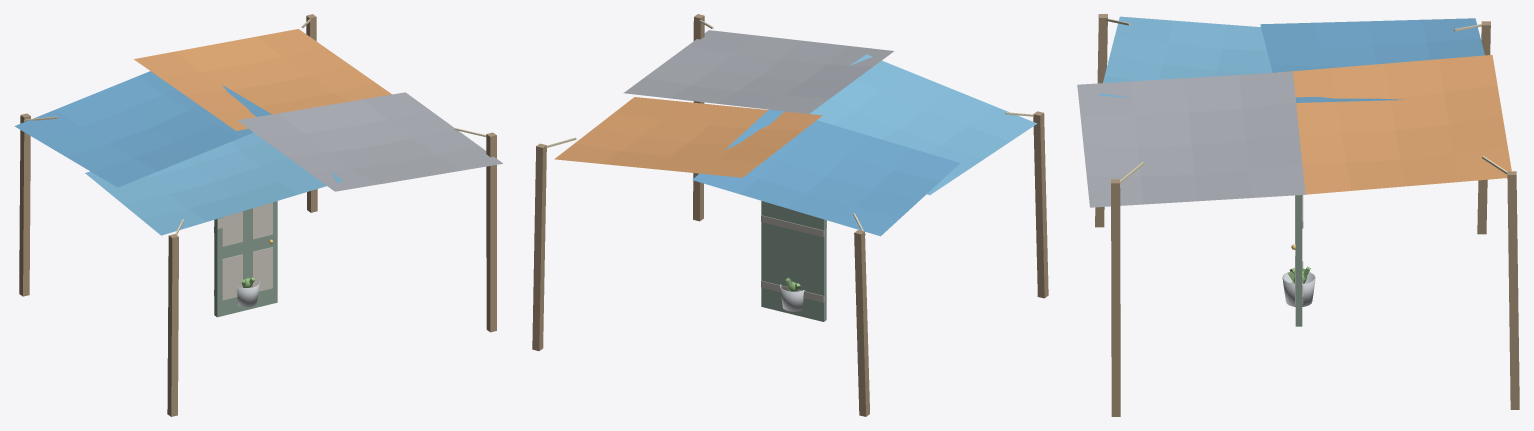
Rendered from camp_roof.glb.
3 renders of one model, left to right at view 1: azimuth 30°, elevation 25°; view 2: azimuth 150°, elevation 25°; view 3: azimuth 270°, elevation 25°, orthographic. The views are drawn at different scales.
Visible parts, largest first — view 1: cr_roof_mesh, cr_door_mesh; view 2: cr_roof_mesh, cr_door_mesh, cr_planks_mesh; view 3: cr_roof_mesh, cr_door_mesh, cr_bucket_mesh.
Boxes of the visible parts, x1,y1,x2,y2 form: cr_roof_mesh: [14, 14, 502, 416]; cr_door_mesh: [214, 201, 277, 317]; cr_roof_mesh: [532, 14, 1048, 416]; cr_door_mesh: [761, 201, 826, 321]; cr_planks_mesh: [761, 215, 824, 302]; cr_roof_mesh: [1077, 14, 1519, 416]; cr_door_mesh: [1291, 195, 1302, 326]; cr_bucket_mesh: [1282, 272, 1315, 306].
Size of the model in its own units: 5.51 by 3.24 by 5.32.
